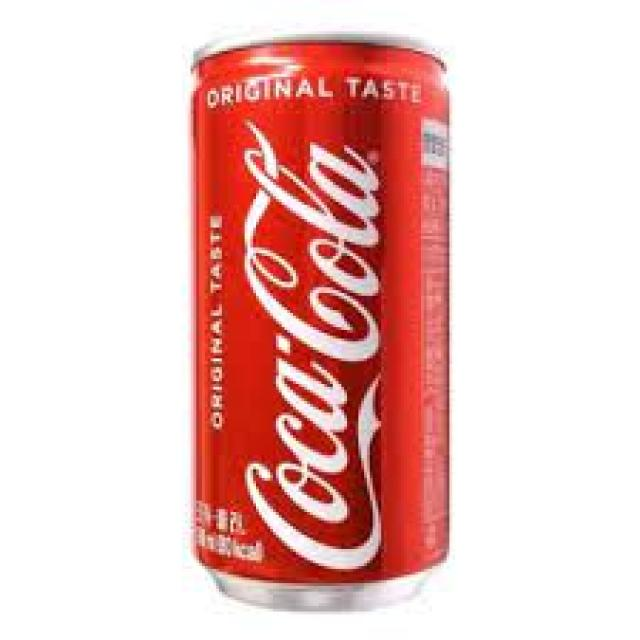Coca-Cola: (185, 30, 454, 621)
